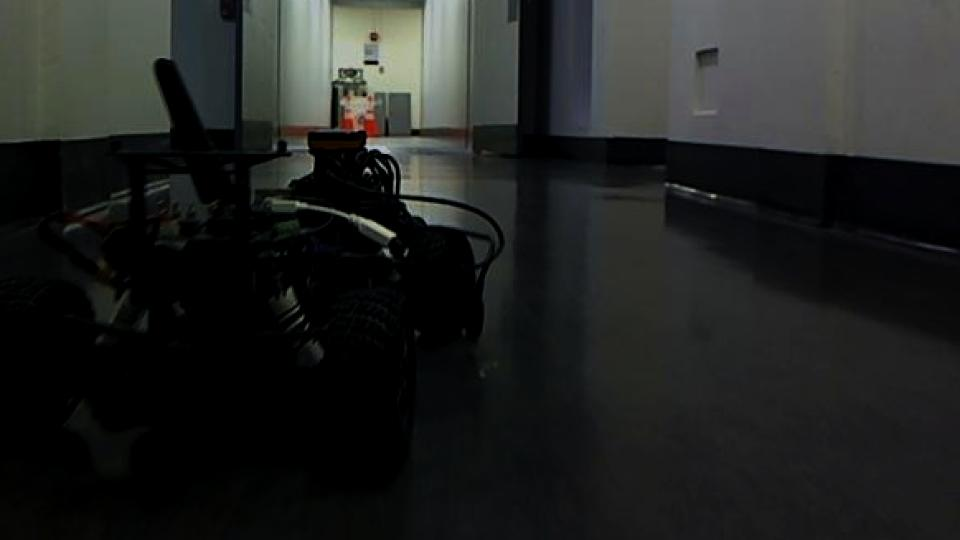car: (0, 54, 505, 488)
